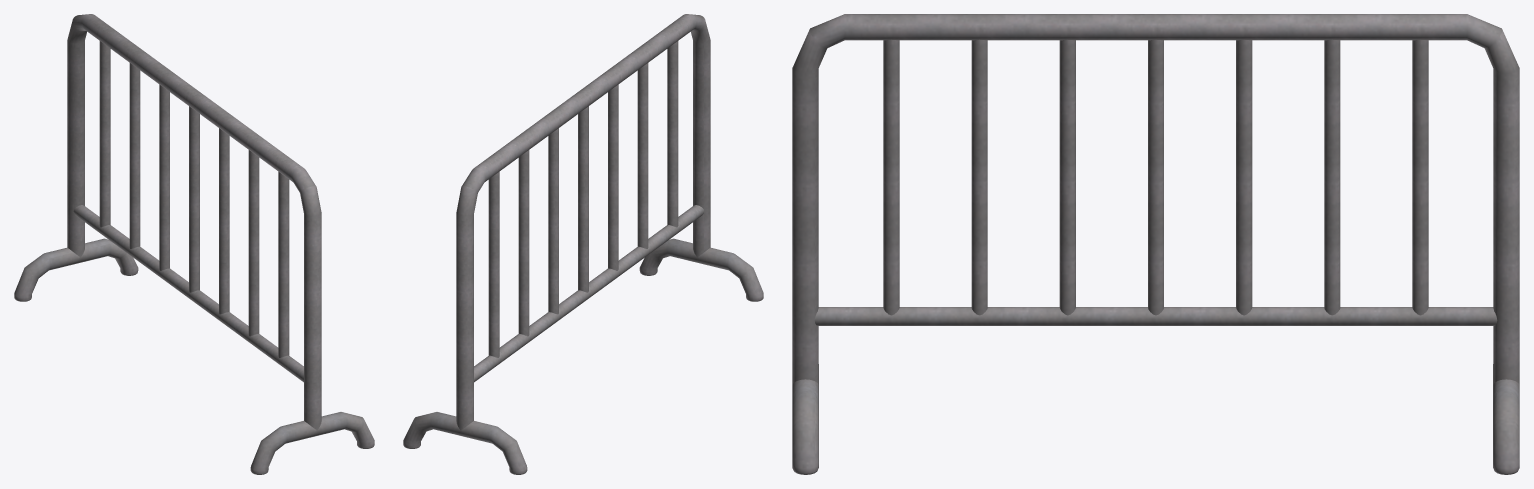
Rendered from mfence.obj.
3 renders of one model, left to right at view 1: azimuth 30°, elevation 25°; view 2: azimuth 150°, elevation 25°; view 3: azimuth 270°, elevation 25°, orthographic. The views are drawn at different scales.
Parts seen in each view (by area): view 1: Fence_Cylinder_001; view 2: Fence_Cylinder_001; view 3: Fence_Cylinder_001.
Boxes of the visible parts, x1,y1,x2,y2 form: Fence_Cylinder_001: (14, 14, 374, 474); Fence_Cylinder_001: (403, 14, 763, 474); Fence_Cylinder_001: (792, 14, 1519, 474).
Size of the model in its own units: 2.8 by 6.19 by 9.78.
